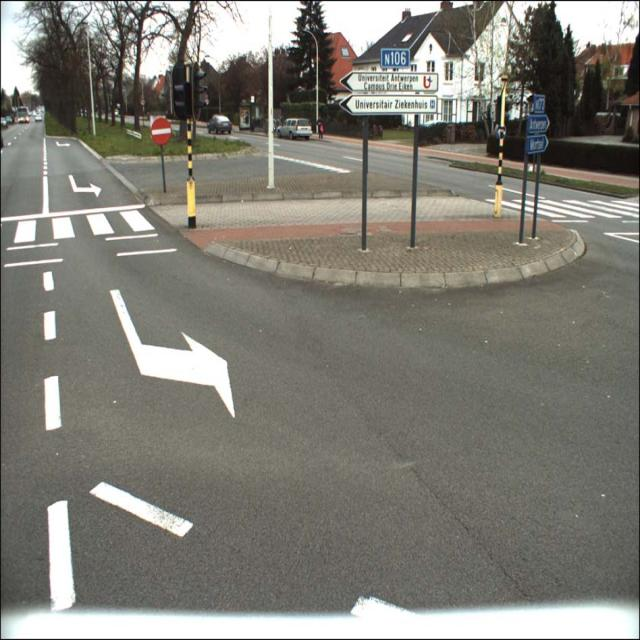girisyok: (152, 117, 172, 145)
